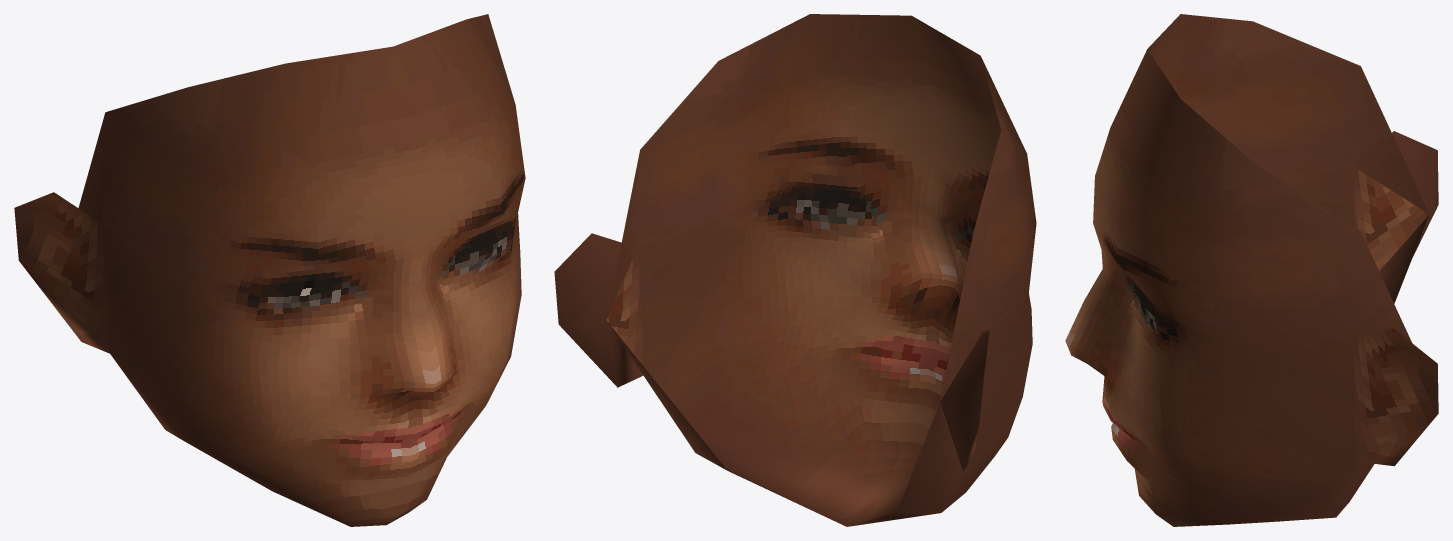
The picture shows the model from 3 angles, left to right: view 1: azimuth 30°, elevation 25°; view 2: azimuth 150°, elevation 25°; view 3: azimuth 270°, elevation 25°; orthographic projection. The views are drawn at different scales.
Bounding box in the file's own units: 19.4 × 20.02 × 14.34.
Materials: 1 (1 with a texture image).
